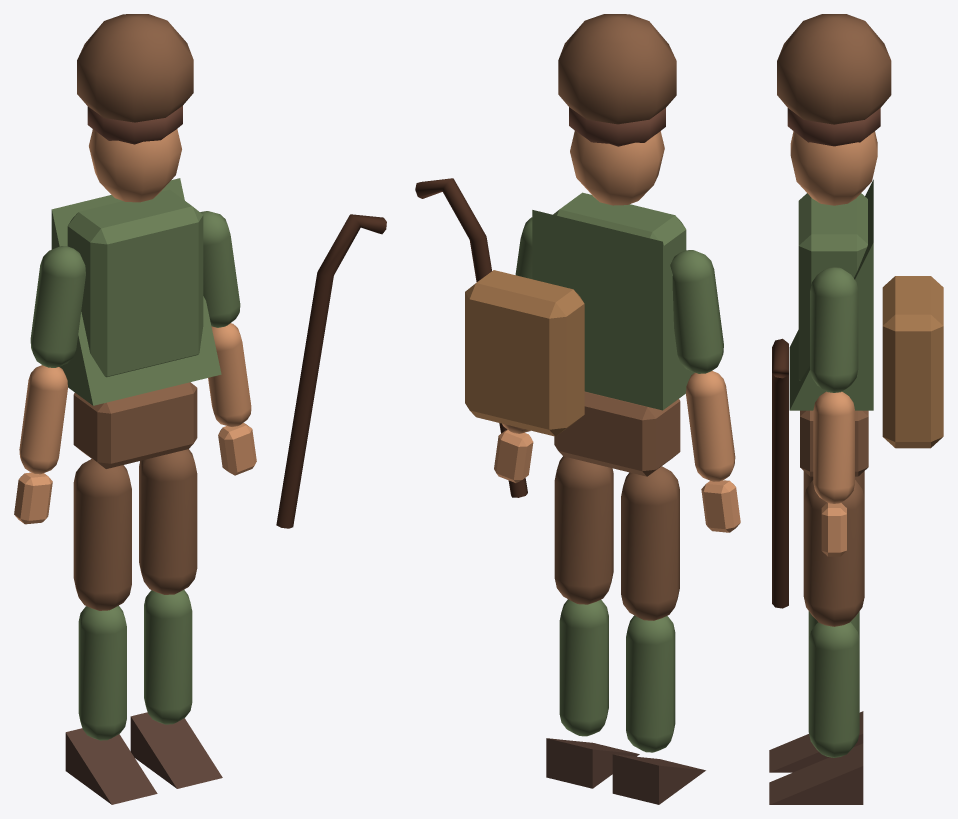
Rendered from adventurer.rustic.glb.
3 renders of one model, left to right at view 1: azimuth 30°, elevation 25°; view 2: azimuth 150°, elevation 25°; view 3: azimuth 270°, elevation 25°, orthographic.
Parts seen in each view (by area): view 1: torso, accessory.head, thigh.left, pelvis, thigh.right, tunic, shin.left, shin.right, accessory.main-hand, upper-arm.left, head, foot.left (+7 smaller); view 2: tunic, accessory.back, accessory.head, thigh.left, thigh.right, pelvis, shin.left, shin.right, upper-arm.left, head, forearm.left, torso (+7 smaller); view 3: accessory.back, accessory.head, shin.right, thigh.right, torso, upper-arm.right, head, tunic, accessory.main-hand, forearm.right, foot.right, hair (+3 smaller).
Part boxes in pixels (x1=…): torso: x1=67, y1=189, x2=203, y2=377; accessory.head: x1=77, y1=14, x2=193, y2=122; thigh.left: x1=73, y1=459, x2=131, y2=610; pelvis: x1=73, y1=382, x2=197, y2=468; thigh.right: x1=139, y1=449, x2=197, y2=594; tunic: x1=51, y1=178, x2=221, y2=405; shin.left: x1=78, y1=605, x2=126, y2=740; shin.right: x1=144, y1=590, x2=192, y2=724; accessory.main-hand: x1=276, y1=214, x2=386, y2=528; upper-arm.left: x1=30, y1=246, x2=85, y2=367; head: x1=89, y1=129, x2=181, y2=202; foot.left: x1=65, y1=728, x2=157, y2=804; tunic: x1=532, y1=210, x2=694, y2=410; accessory.back: x1=465, y1=270, x2=584, y2=436; accessory.head: x1=558, y1=14, x2=676, y2=124; thigh.left: x1=621, y1=466, x2=679, y2=620; thigh.right: x1=554, y1=456, x2=613, y2=604; pelvis: x1=554, y1=391, x2=680, y2=476; shin.left: x1=626, y1=615, x2=675, y2=752; shin.right: x1=559, y1=599, x2=608, y2=736; upper-arm.left: x1=670, y1=250, x2=723, y2=373; head: x1=570, y1=131, x2=664, y2=205; forearm.left: x1=686, y1=371, x2=735, y2=481; torso: x1=553, y1=192, x2=686, y2=265; accessory.back: x1=882, y1=276, x2=943, y2=448; accessory.head: x1=777, y1=14, x2=891, y2=124; shin.right: x1=808, y1=622, x2=859, y2=757; thigh.right: x1=803, y1=480, x2=864, y2=626; torso: x1=798, y1=193, x2=867, y2=380; upper-arm.right: x1=810, y1=267, x2=858, y2=392; head: x1=790, y1=131, x2=877, y2=205; tunic: x1=789, y1=179, x2=873, y2=410; accessory.main-hand: x1=772, y1=338, x2=788, y2=608; forearm.right: x1=813, y1=391, x2=854, y2=503; foot.right: x1=769, y1=743, x2=863, y2=804; hair: x1=787, y1=108, x2=880, y2=146.
Size of the model in its own units: 1.57 by 3.29 by 0.685.
